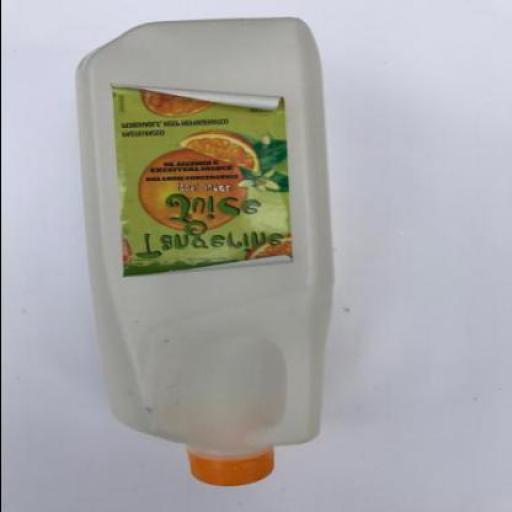plastic: (71, 16, 330, 485), (183, 450, 276, 485)
